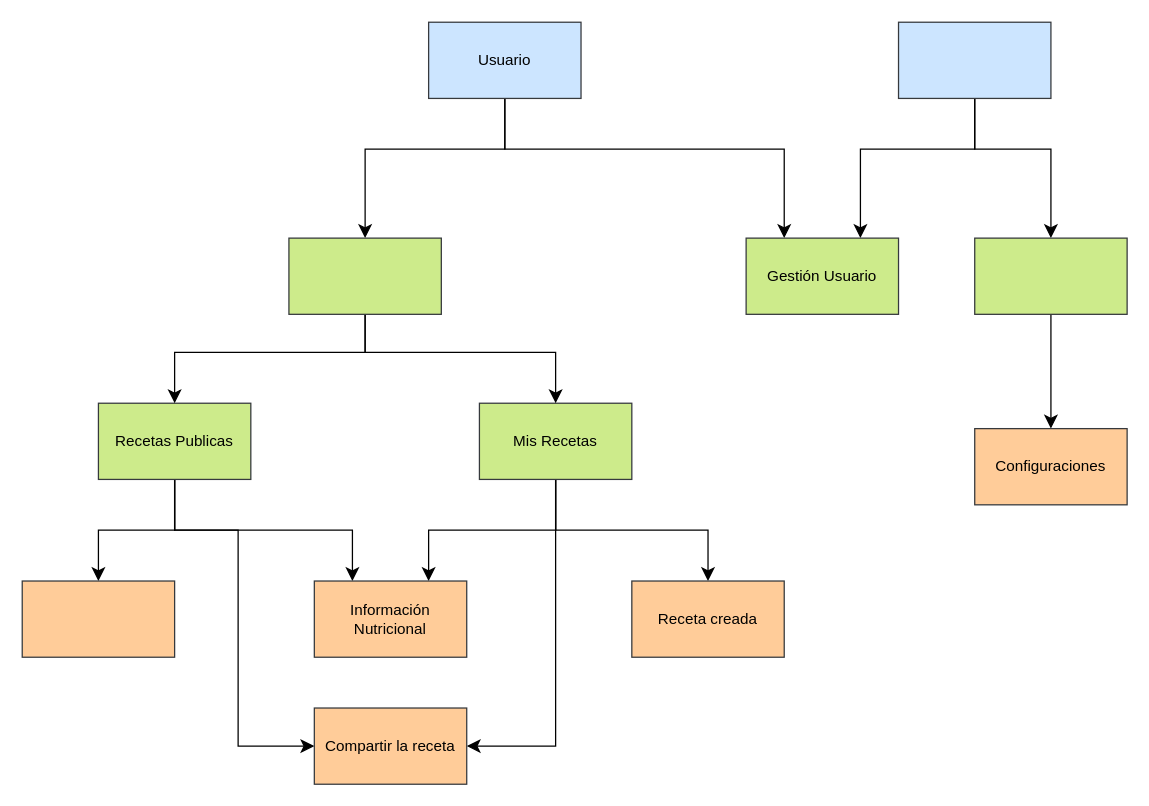
The diagram is 1149 pixels wide and 806 high, and some of its shapes have lost their labels. The shapes that lost their labels are listed below. From the top down, each one's box as (x1, y1, x2, y2) in pixels, then its label:
(897, 21, 1051, 98): Administrador
(288, 237, 441, 314): Menú Principal
(973, 237, 1127, 314): Panel Admin
(21, 580, 175, 657): Datos receta Pública
